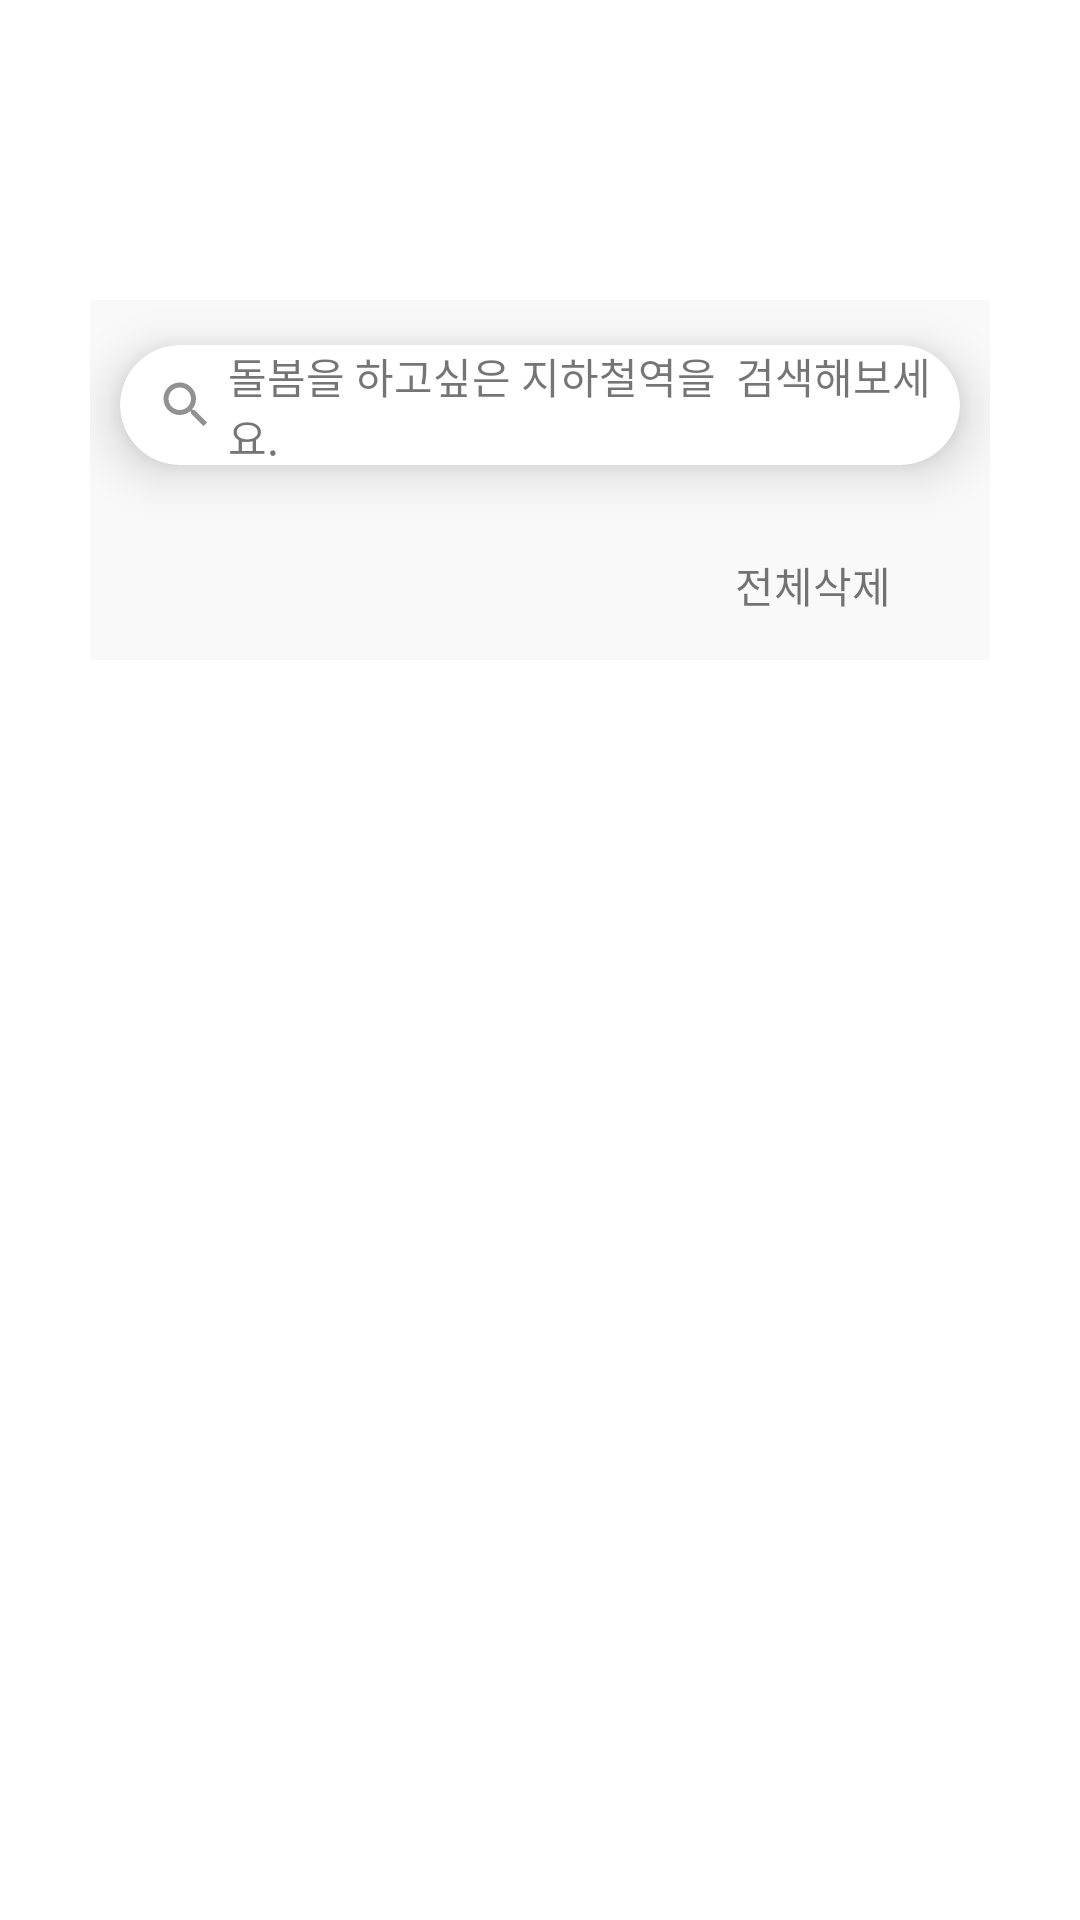

Screen size 1080 x 1920. Icon name, then its center in pixels as (x,y):
search: (185,404)
